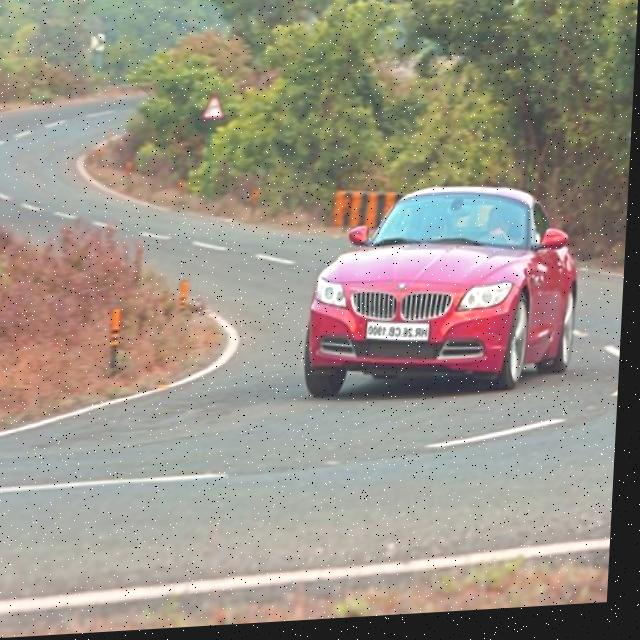plate: (368, 323, 433, 352)
